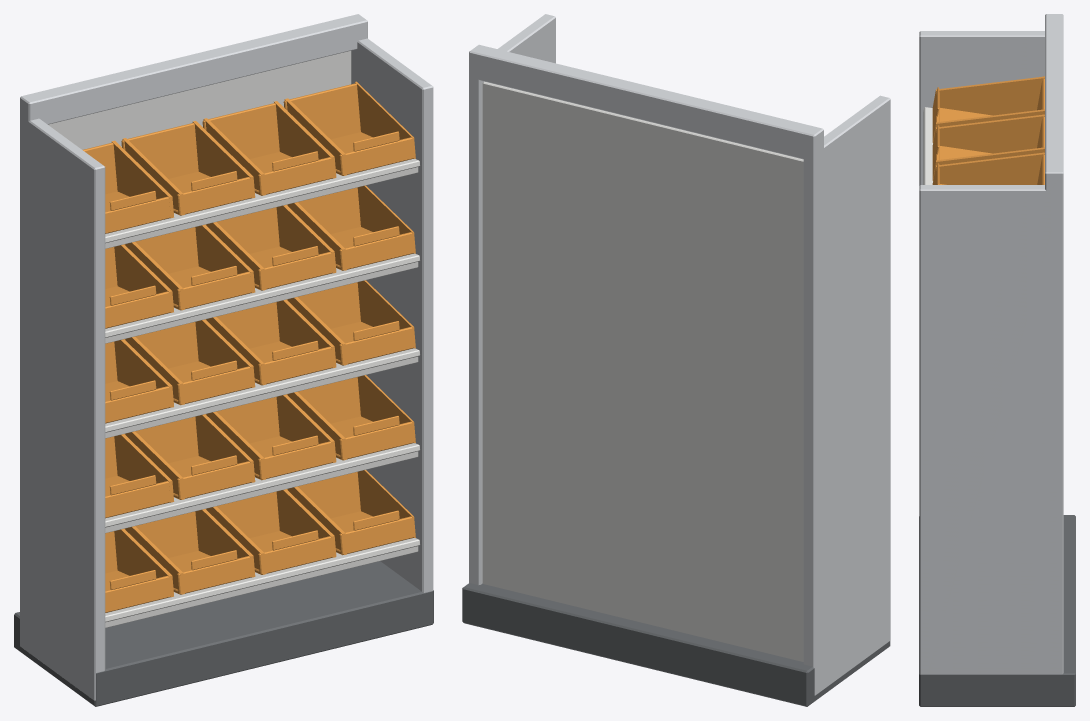
The model's file is fastener-bin-wall.glb.
3 renders of one model, left to right at view 1: azimuth 30°, elevation 25°; view 2: azimuth 150°, elevation 25°; view 3: azimuth 270°, elevation 25°, orthographic. The views are drawn at different scales.
Parts seen in each view (by area): view 1: fastener-bin-wall; view 2: fastener-bin-wall; view 3: fastener-bin-wall.
Boxes of the visible parts, x1,y1,x2,y2 form: fastener-bin-wall: [14, 14, 433, 706]; fastener-bin-wall: [462, 14, 890, 706]; fastener-bin-wall: [919, 14, 1075, 706].
Bounding box in the file's own units: 1.2 × 1.88 × 0.5.
